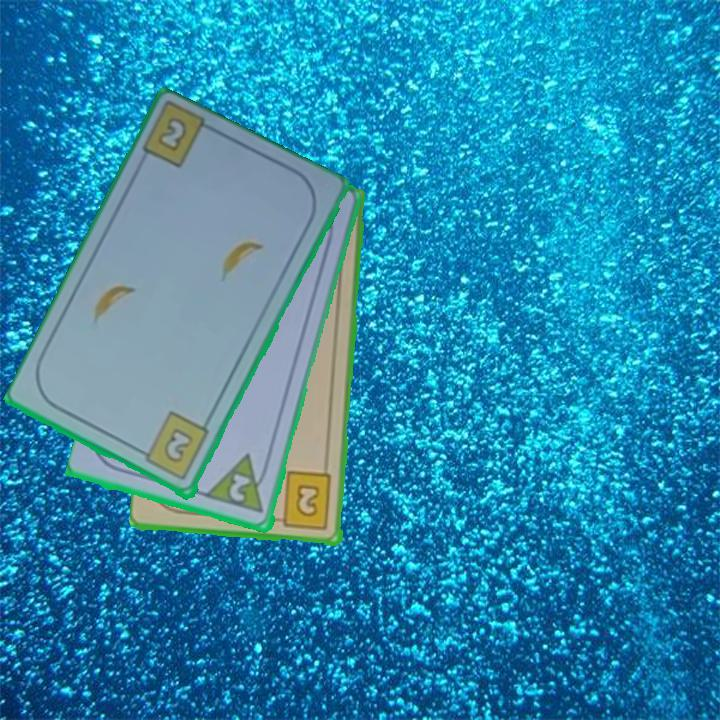2b: (135, 409, 212, 484), (270, 469, 335, 533), (153, 114, 190, 155)
2p: (204, 451, 273, 517)
